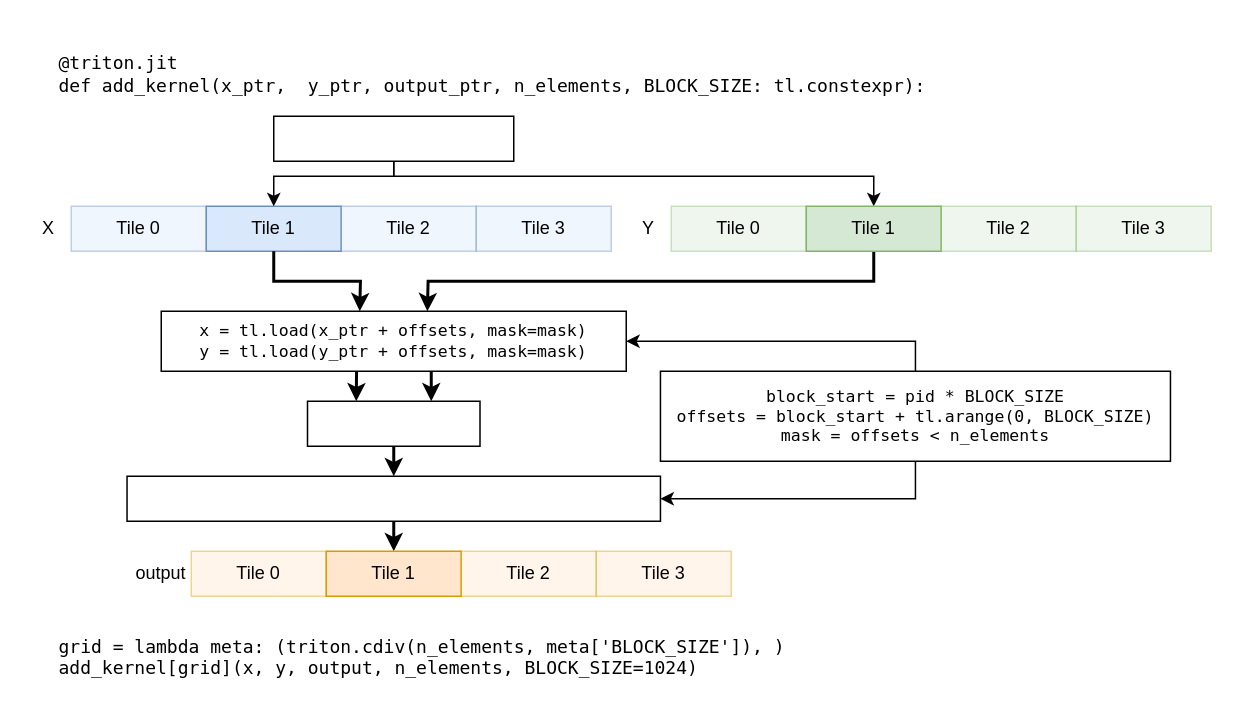
This 1238x726 diagram has some shape labels left out. The shapes that lost their labels are listed below. From the top down, each one's centre as x and y in pixels, then its label:
At point (393, 138): "pid = tl.program_id(0)".
At point (393, 423): "output = x + y".
At point (393, 498): "tl.store(output_ptr + offsets, output, mask = mask)".
